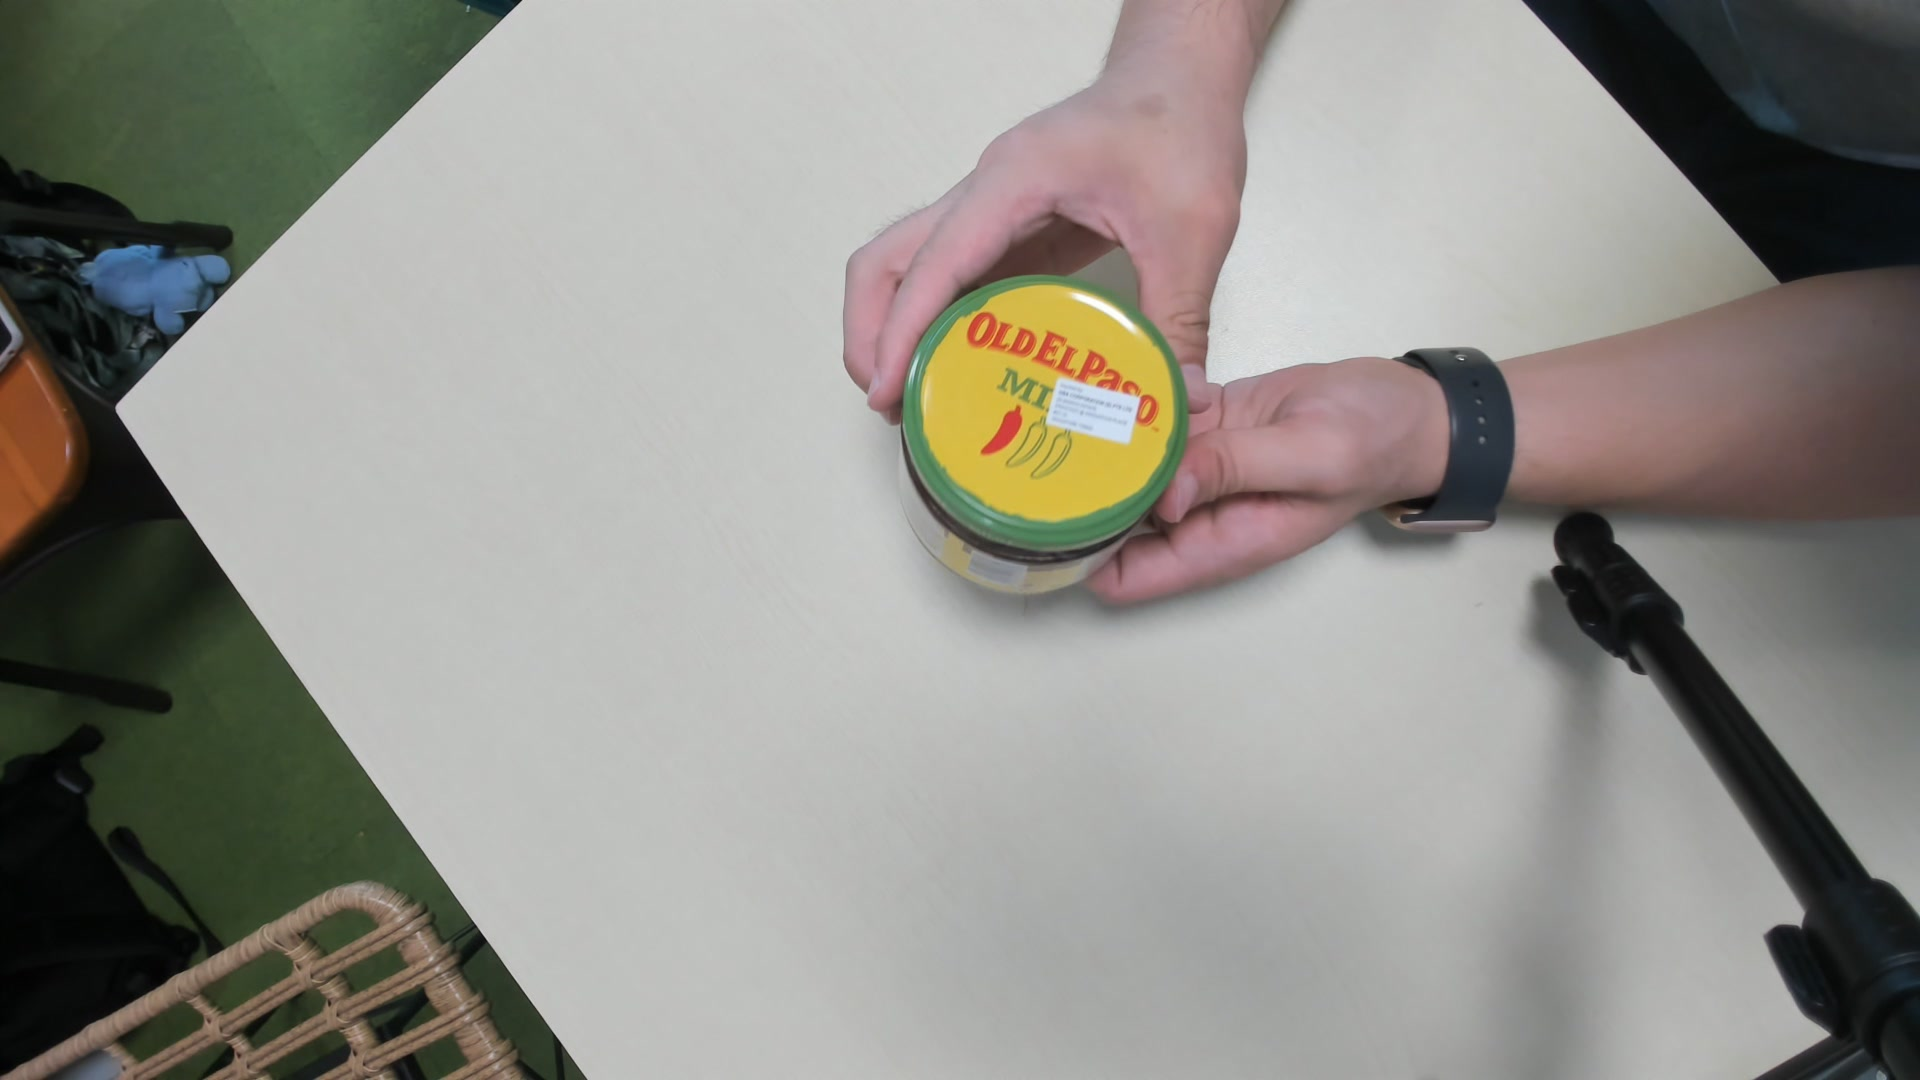OtherSauceDressing_300-399g_NonHalal_NonHealthy: (897, 276, 1197, 615)
